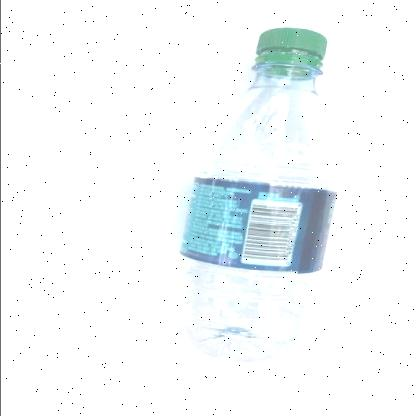Plastic Bottle: (175, 27, 342, 363)
